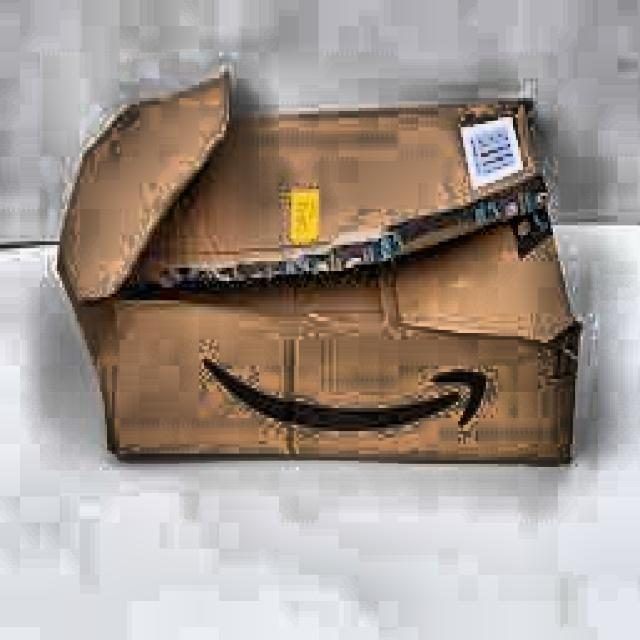cardboard: (55, 65, 583, 464)
